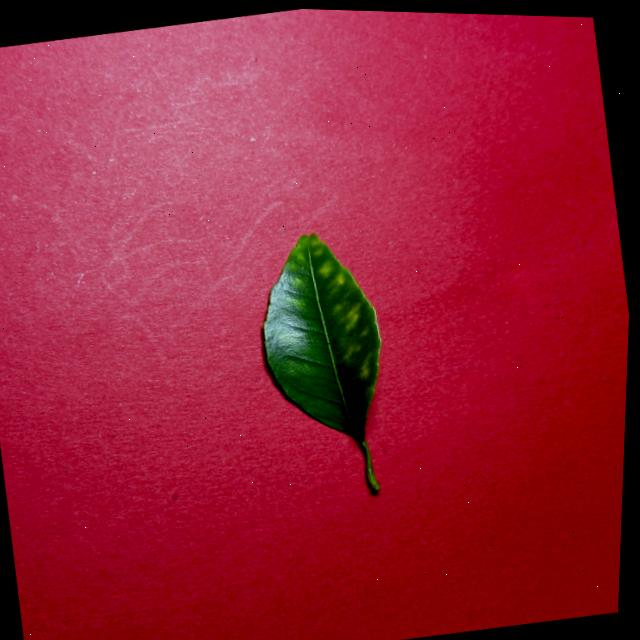greening: (263, 232, 380, 490)
